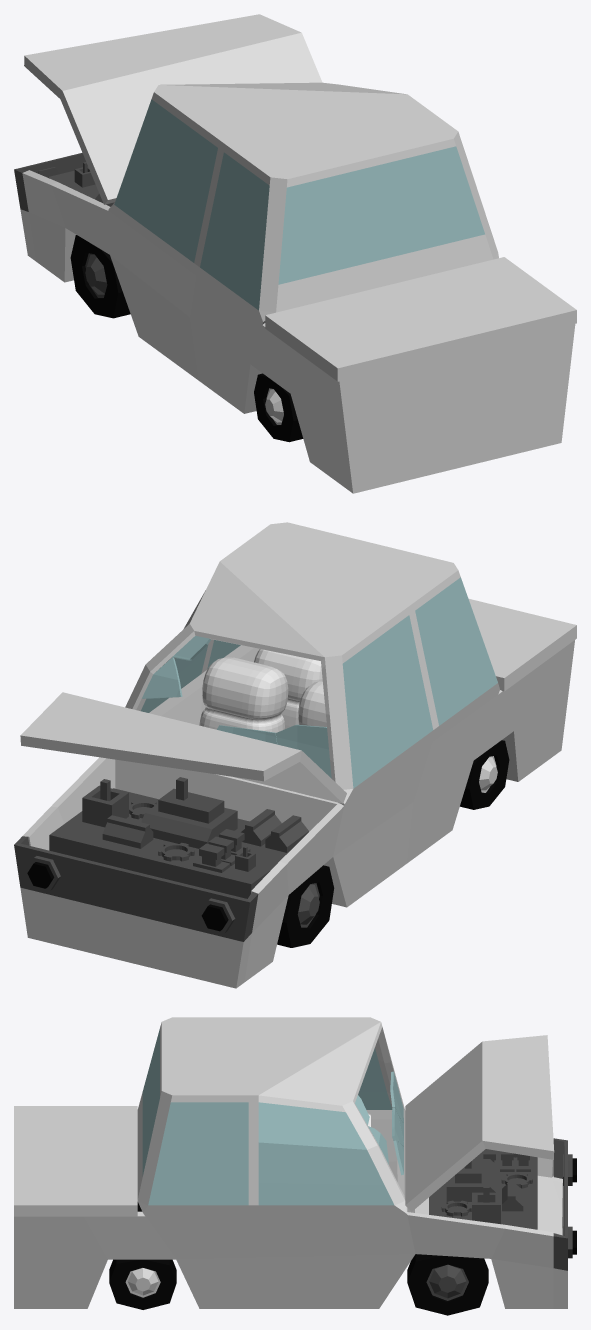
File: broken_car_1.glb
The picture shows the model from 3 angles, top to bottom: view 1: azimuth 30°, elevation 25°; view 2: azimuth 150°, elevation 25°; view 3: azimuth 270°, elevation 25°; orthographic projection. The views are drawn at different scales.
Parts seen in each view (by area): view 1: car, hood, trunk, front_wheels, back_wheels, bumper, engine_block; view 2: car, engine_block, hood, bumper, Cube, trunk, glass, front_wheels, back_wheels, Cylinder; view 3: car, hood, trunk, engine_block, front_wheels, back_wheels, glass, bumper, Cylinder.
Part boxes in pixels (<box>): car: <box>20,82,575,493</box>; hood: <box>24,14,322,204</box>; trunk: <box>265,257,576,381</box>; front_wheels: <box>70,235,130,318</box>; back_wheels: <box>254,373,303,442</box>; bumper: <box>14,152,85,211</box>; engine_block: <box>48,162,114,206</box>; car: <box>20,522,574,988</box>; engine_block: <box>49,777,308,898</box>; hood: <box>20,692,346,803</box>; bumper: <box>14,836,258,941</box>; Cube: <box>199,649,326,732</box>; trunk: <box>468,599,576,691</box>; glass: <box>142,636,331,778</box>; front_wheels: <box>277,865,334,947</box>; back_wheels: <box>460,740,509,809</box>; Cylinder: <box>26,856,235,933</box>; car: <box>14,1017,567,1308</box>; hood: <box>405,1035,554,1211</box>; trunk: <box>14,1106,137,1216</box>; engine_block: <box>429,1149,537,1229</box>; front_wheels: <box>407,1254,488,1315</box>; back_wheels: <box>109,1259,176,1309</box>; glass: <box>355,1071,403,1175</box>; bumper: <box>553,1138,567,1270</box>; Cylinder: <box>563,1154,576,1258</box>.
Bounding box in the file's own units: 2.52 × 2.53 × 6.02.
